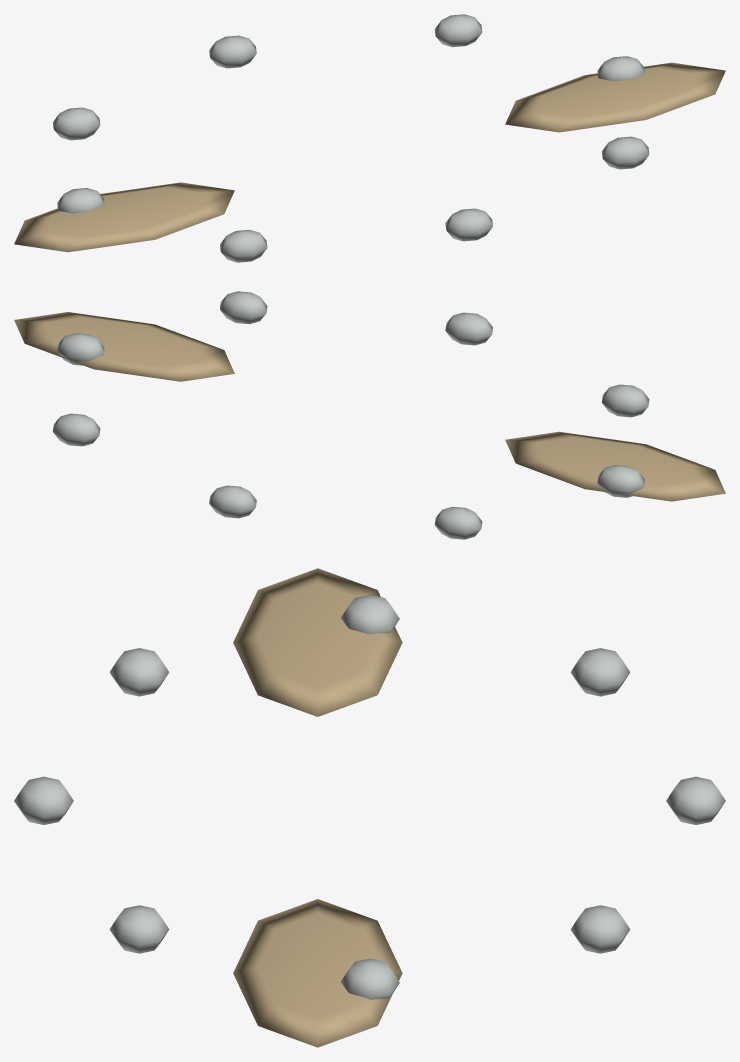
The model's file is foundation_autumn.glb.
3 renders of one model, top to bottom at view 1: azimuth 30°, elevation 25°; view 2: azimuth 150°, elevation 25°; view 3: azimuth 270°, elevation 25°, orthographic. The views are drawn at different scales.
Size of the model in its own units: 4.35 by 0.1601 by 2.73.
